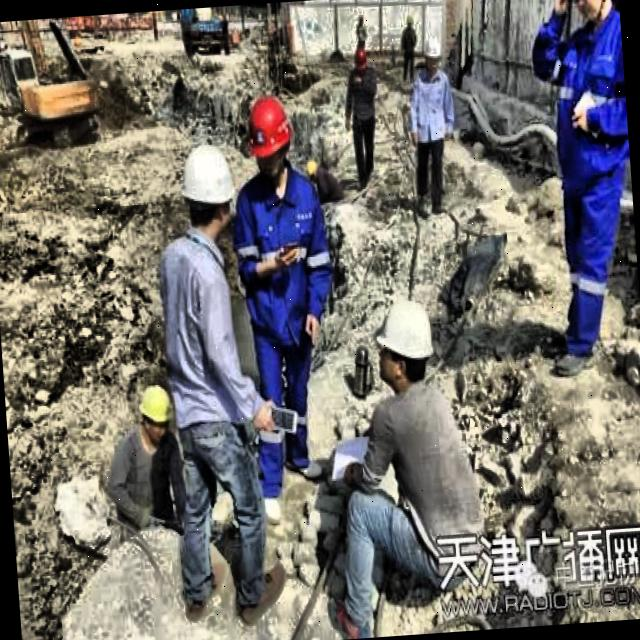helmet: (371, 292, 437, 394), (176, 140, 238, 242), (241, 87, 297, 184), (134, 382, 174, 445), (422, 33, 444, 76), (347, 44, 370, 78)
